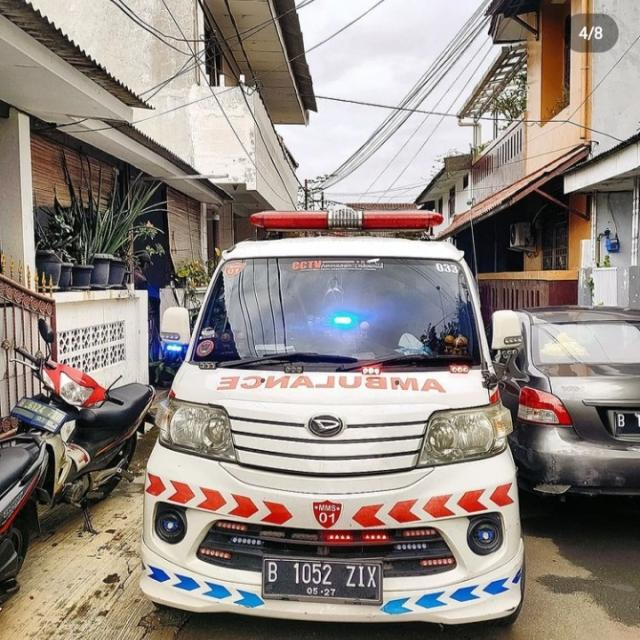emergency-vehicle: (138, 207, 546, 639)
